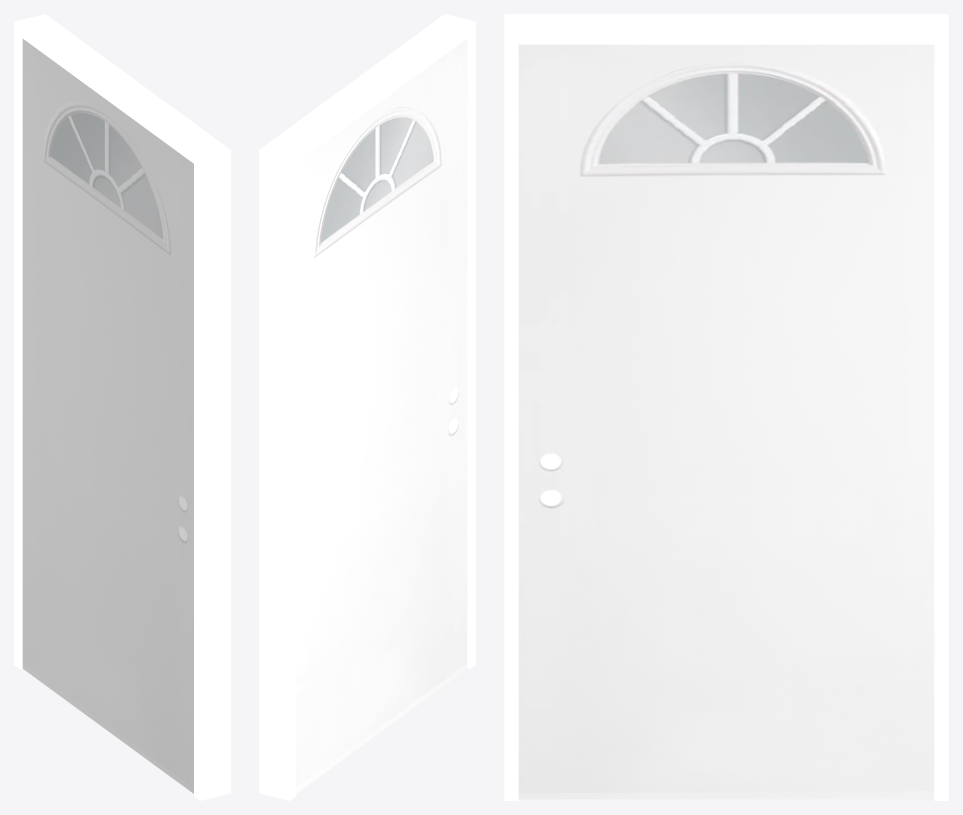
The model's file is 5_lite_plan_door_walkin.8c032ba6.gltf.
3 views of the same model, side by side, from view 1: azimuth 30°, elevation 25°; view 2: azimuth 150°, elevation 25°; view 3: azimuth 270°, elevation 25° (orthographic). The views are drawn at different scales.
Parts seen in each view (by area): view 1: Doors, trims; view 2: Doors, trims; view 3: Doors, trims.
Boxes of the visible parts, x1,y1,x2,y2 form: Doors: (22,39,193,793); trims: (14,14,230,800); Doors: (296,39,467,793); trims: (259,14,475,800); Doors: (518,44,934,799); trims: (504,14,948,800).
Bounding box in the file's own units: 0.302 × 6.01 × 3.14.
Materials: 2 (1 with a texture image).
